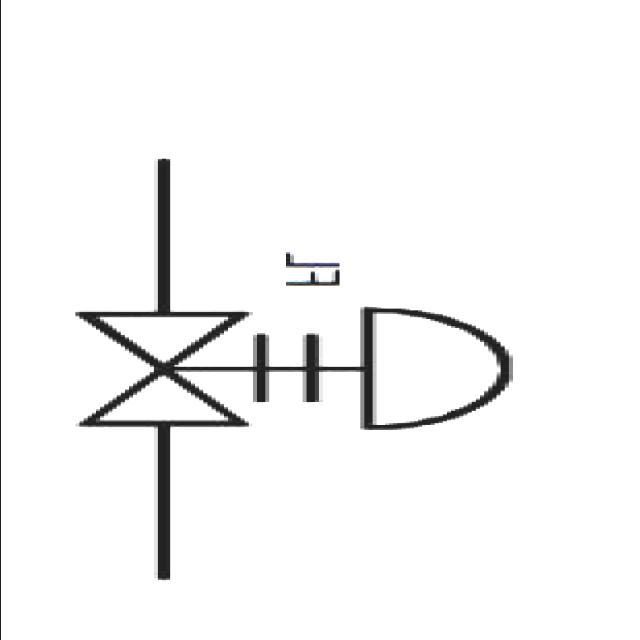Fail Lock Safe Position: (51, 295, 551, 453)
